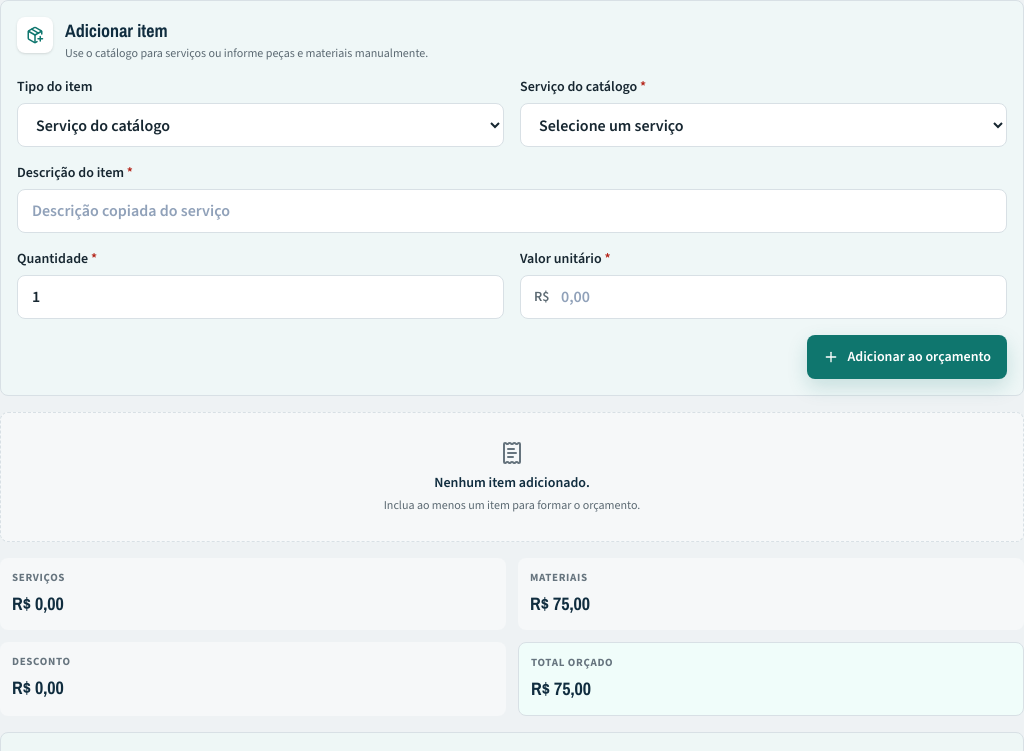
Test: editor de orçamento › preenche descrição e preço ao selecionar um serviço
Select "Higienização completa · Climatização · 250,00" in the dropdown labelled "Serviço do catálogo *" at (764, 125), box [520, 103, 1007, 147]
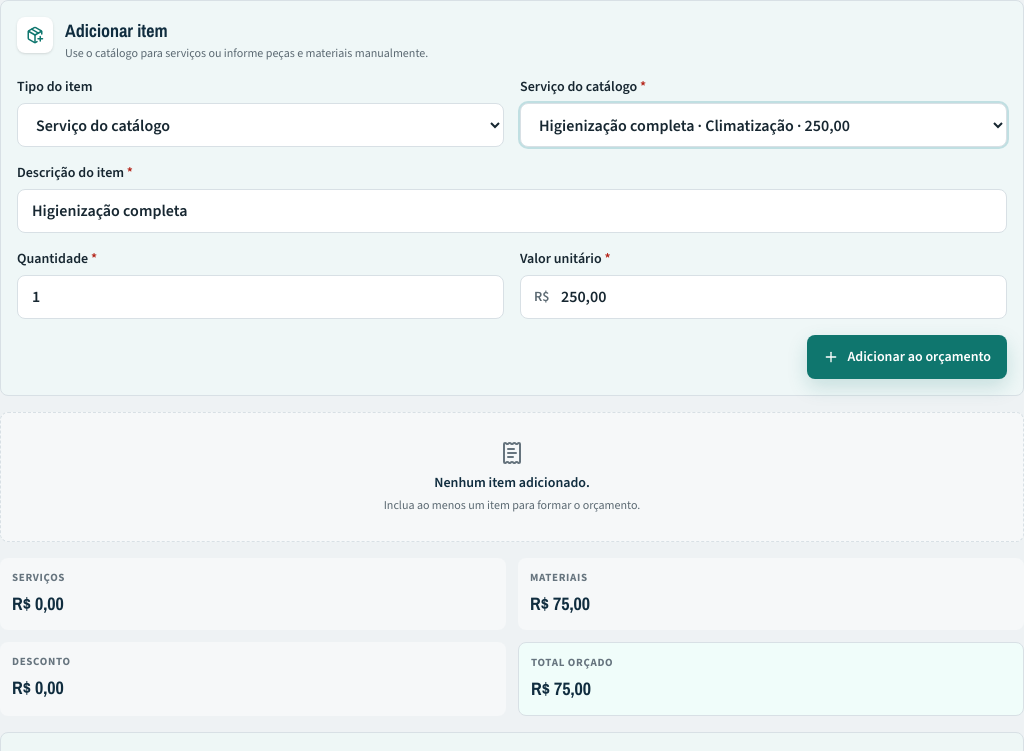
Check: the field labelled "Descrição do item *" holds "Higienização completa", box [17, 189, 1007, 233]
Check: the field labelled "Valor unitário * R$" holds "250,00", box [520, 275, 1007, 319]
